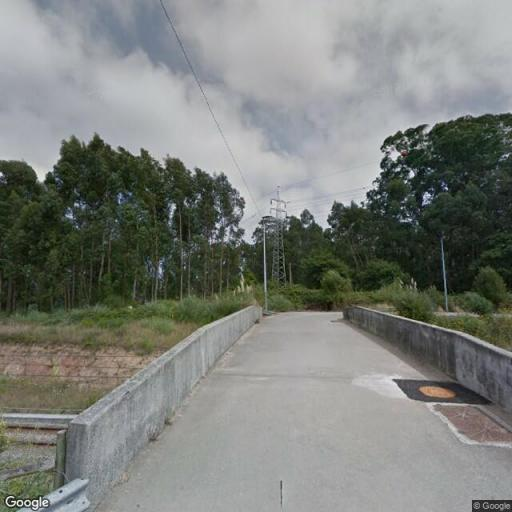ss_3: (266, 187, 290, 292)
